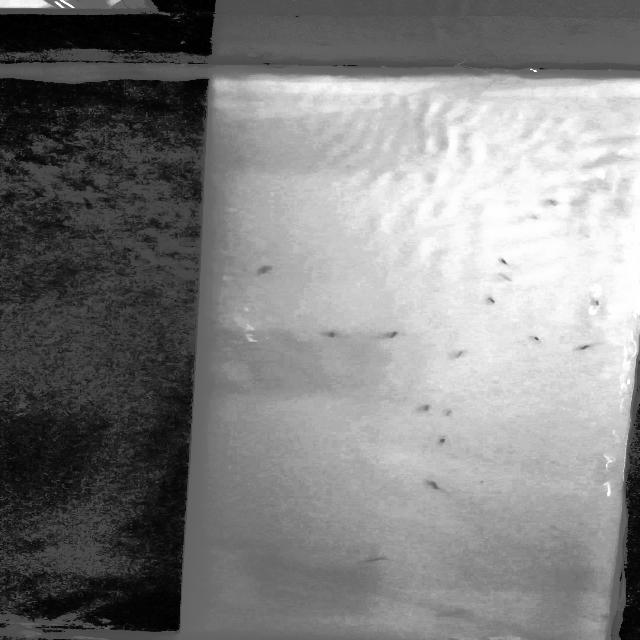shrimp: (360, 554, 396, 566), (251, 262, 278, 277), (449, 344, 473, 359), (577, 338, 599, 354), (422, 478, 448, 491), (434, 434, 456, 449), (496, 269, 518, 283), (327, 328, 348, 341), (528, 334, 552, 344), (418, 401, 435, 414), (387, 327, 402, 340), (440, 407, 458, 417), (498, 254, 512, 266), (486, 294, 500, 305), (590, 299, 604, 306)
